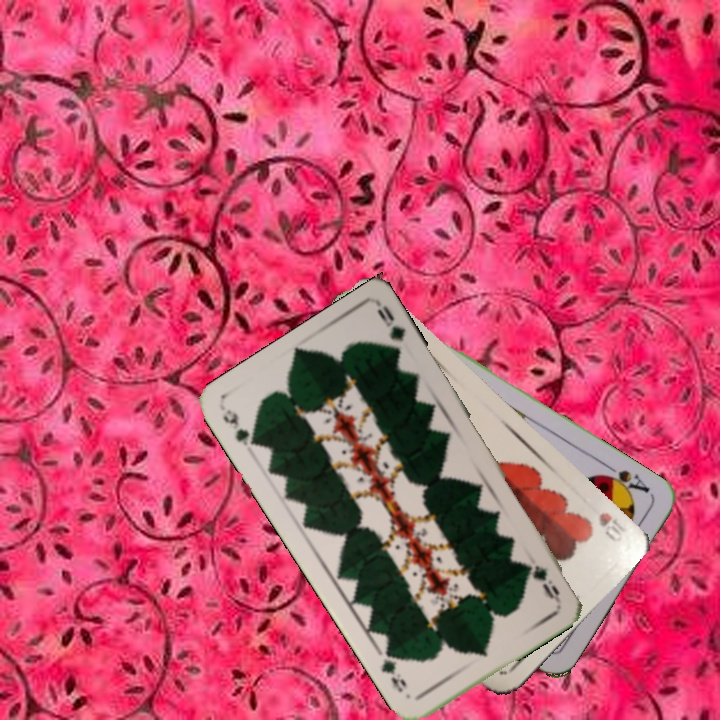G9: (218, 404, 262, 450), (530, 560, 563, 604)
H10: (594, 508, 628, 545)
SA: (595, 459, 653, 499)
